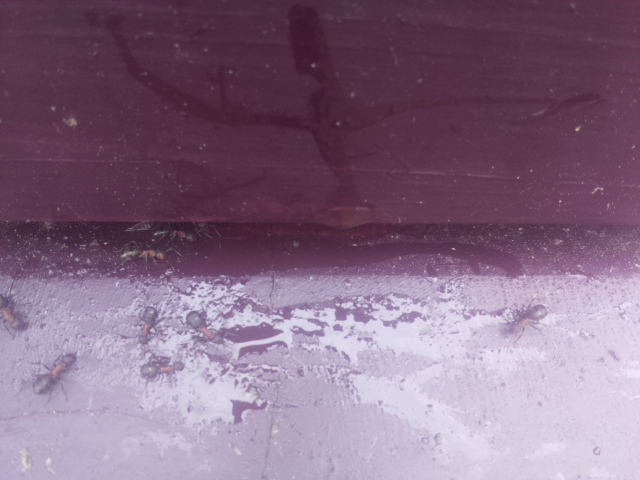ant: (25, 343, 85, 403), (497, 300, 553, 342), (182, 304, 217, 346), (111, 245, 170, 264), (135, 302, 161, 343), (0, 289, 26, 330), (146, 228, 195, 238)
